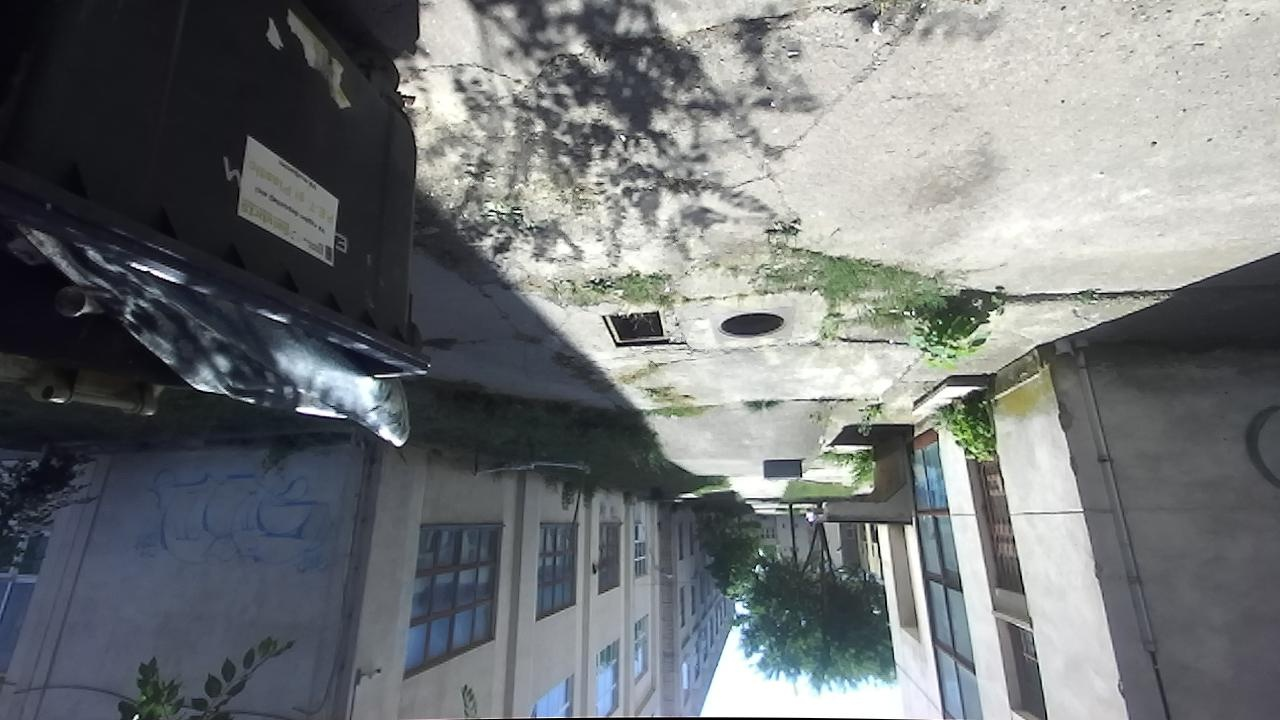drain: (600, 313, 684, 345), (716, 308, 785, 342)
